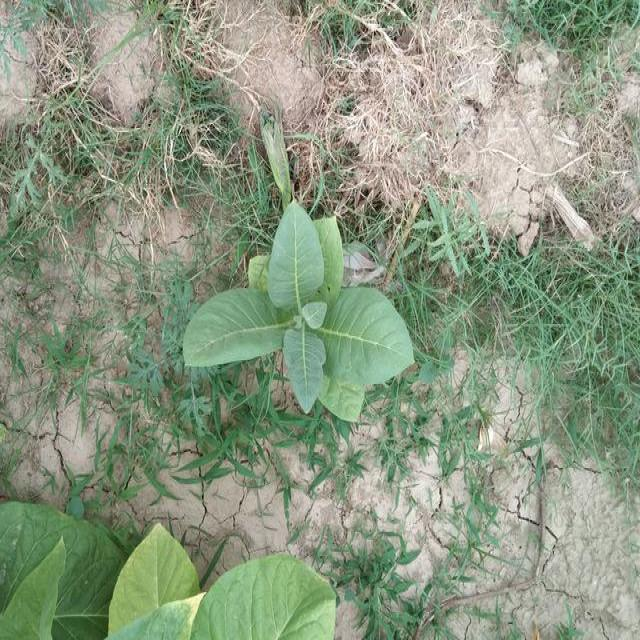crop: (175, 192, 424, 415)
